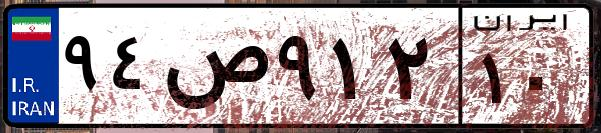0: (525, 38, 570, 115)
1: (330, 28, 385, 110), (475, 38, 525, 113)
2: (385, 28, 445, 110)
4: (110, 28, 158, 98)
9: (270, 28, 330, 110), (57, 26, 110, 100)
ص: (158, 20, 270, 120)
